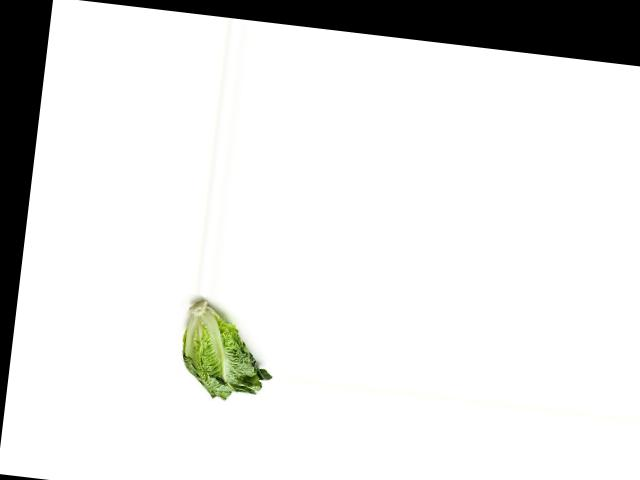lettuce: (173, 301, 278, 409)
